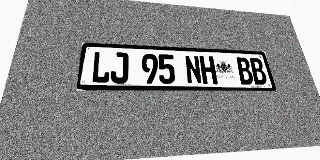5: (158, 54, 176, 84)
9: (142, 53, 159, 84)
B: (235, 57, 255, 85), (248, 58, 268, 85)
H: (199, 56, 218, 84)
J: (110, 52, 128, 83)
L: (90, 51, 111, 83)
N: (184, 55, 202, 84)
